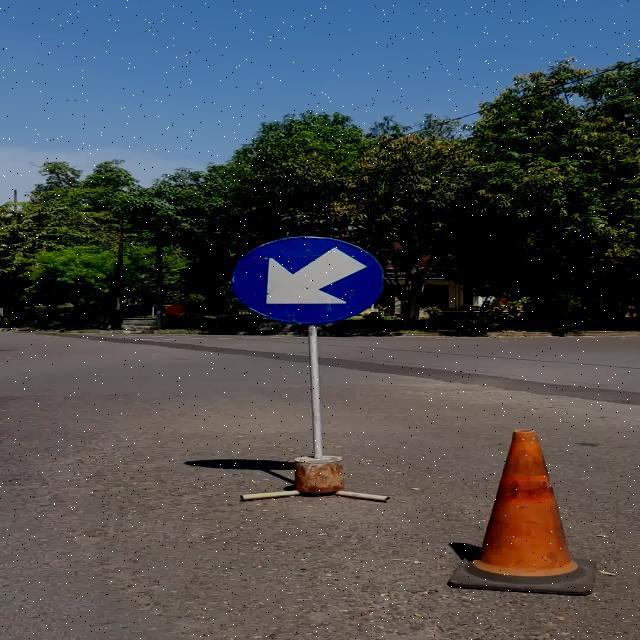Lajur Kiri: (232, 235, 384, 324)
